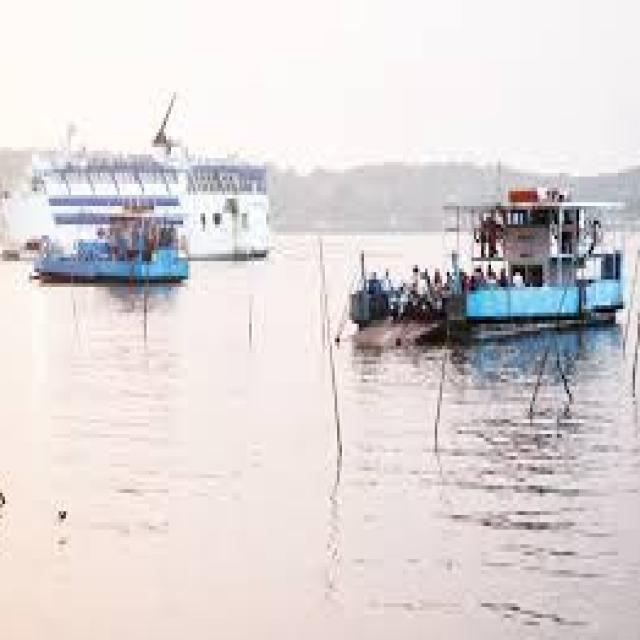cargoship: (0, 129, 278, 254)
fishing boat: (322, 158, 617, 323), (31, 200, 200, 283)
